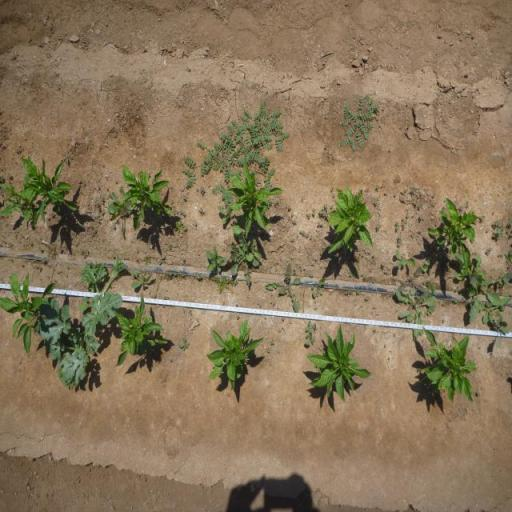plant: (306, 323, 373, 404), (0, 272, 58, 356), (227, 162, 284, 239), (206, 317, 264, 391), (20, 154, 78, 227), (115, 292, 169, 369), (422, 328, 476, 404), (121, 163, 174, 232), (327, 183, 375, 258), (428, 196, 480, 265)
weed: (34, 255, 128, 391), (181, 97, 293, 206), (458, 257, 512, 325), (338, 92, 380, 153), (395, 285, 437, 342), (267, 261, 302, 313), (230, 236, 264, 284), (0, 182, 34, 226), (109, 184, 135, 236), (478, 295, 512, 325), (398, 267, 427, 297), (490, 313, 512, 351), (129, 269, 155, 291), (204, 246, 224, 272), (394, 249, 416, 270), (214, 275, 236, 295), (218, 204, 235, 226), (305, 320, 319, 346), (44, 244, 64, 262), (313, 278, 325, 298), (174, 218, 188, 235), (177, 336, 191, 352), (420, 254, 432, 272), (318, 204, 329, 220), (95, 195, 105, 212), (298, 230, 314, 240), (492, 226, 502, 241), (426, 280, 436, 294), (503, 249, 512, 262), (505, 221, 512, 237), (80, 248, 90, 258), (144, 254, 152, 266), (400, 216, 406, 230), (396, 233, 402, 246), (486, 245, 492, 258), (330, 187, 336, 198), (198, 206, 206, 214), (168, 271, 178, 277), (317, 221, 324, 229), (350, 270, 357, 278), (414, 201, 421, 209), (492, 220, 502, 225), (64, 157, 70, 165), (34, 264, 42, 270), (292, 218, 298, 226), (344, 290, 352, 296), (394, 221, 400, 229), (418, 212, 424, 220), (416, 364, 422, 372), (451, 299, 459, 305), (410, 185, 416, 193), (180, 209, 186, 216), (195, 274, 202, 280), (305, 212, 311, 219), (375, 224, 381, 231), (200, 186, 204, 196), (355, 288, 360, 296), (362, 272, 367, 280), (466, 200, 470, 210), (266, 348, 272, 354), (458, 206, 464, 212), (270, 339, 274, 347), (374, 199, 378, 207), (376, 184, 380, 192), (7, 172, 12, 178), (182, 195, 188, 200), (274, 200, 279, 206), (479, 215, 484, 221), (168, 243, 172, 250), (288, 205, 292, 212), (382, 261, 386, 268), (163, 295, 168, 300), (290, 238, 294, 244), (366, 296, 370, 302), (372, 328, 376, 333), (312, 208, 314, 216), (311, 284, 314, 289)
